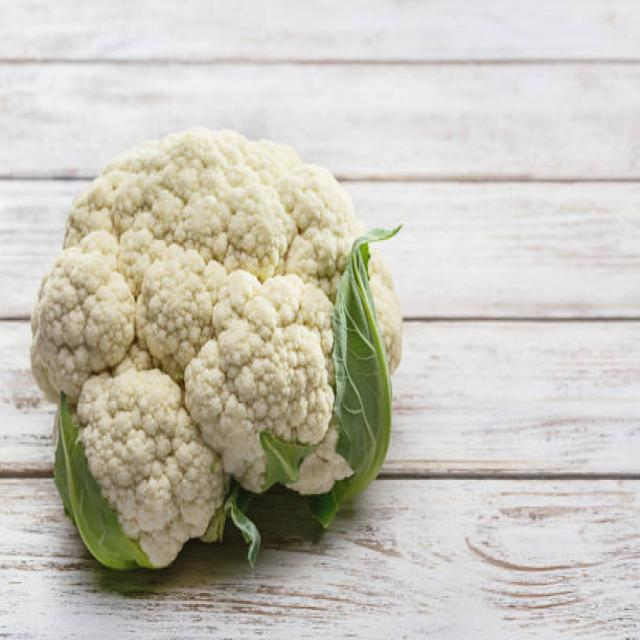cauliflower: (0, 36, 451, 590)
